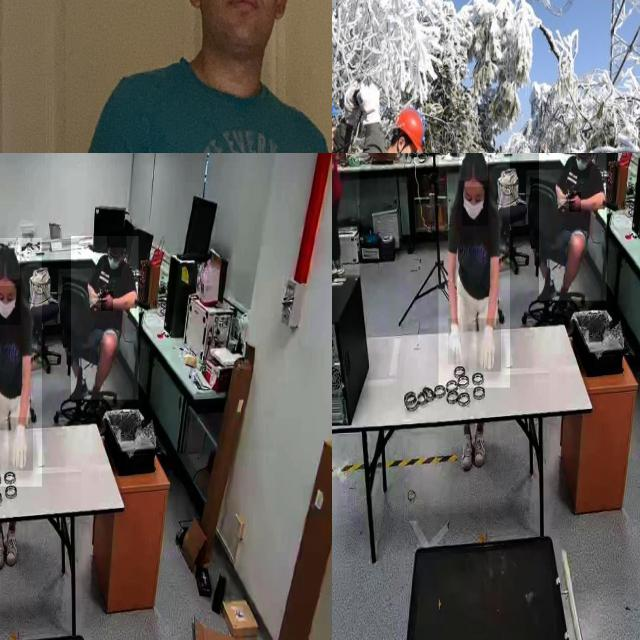No_Ear-Protection: (390, 107, 425, 153), (274, 0, 290, 22)
face_mask: (462, 187, 488, 226), (0, 286, 20, 325), (104, 253, 122, 277), (572, 154, 590, 178)
hand_glove: (8, 418, 34, 472), (476, 318, 502, 372), (448, 318, 461, 366)
hand_noglove: (101, 291, 113, 312), (569, 192, 581, 213)
head_nohelmet: (459, 153, 488, 181), (0, 244, 20, 280), (107, 232, 127, 248)
person: (438, 153, 510, 388), (71, 236, 139, 400), (0, 237, 42, 487), (539, 153, 607, 301), (332, 153, 360, 276)
shoes: (2, 528, 22, 566), (470, 429, 490, 467), (458, 432, 474, 471), (0, 530, 6, 569)
